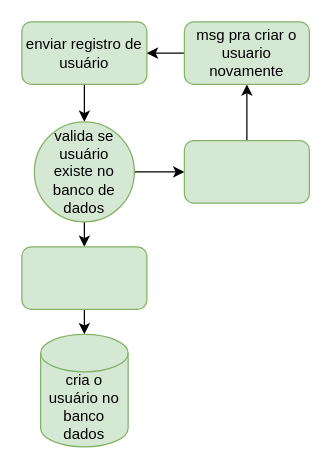
Image size: 331x469. Some labels were removed from this diagram. The centre of each missing label's shape, as x and y in pixels:
existe: the point at 84,277
não existe: the point at 246,171
